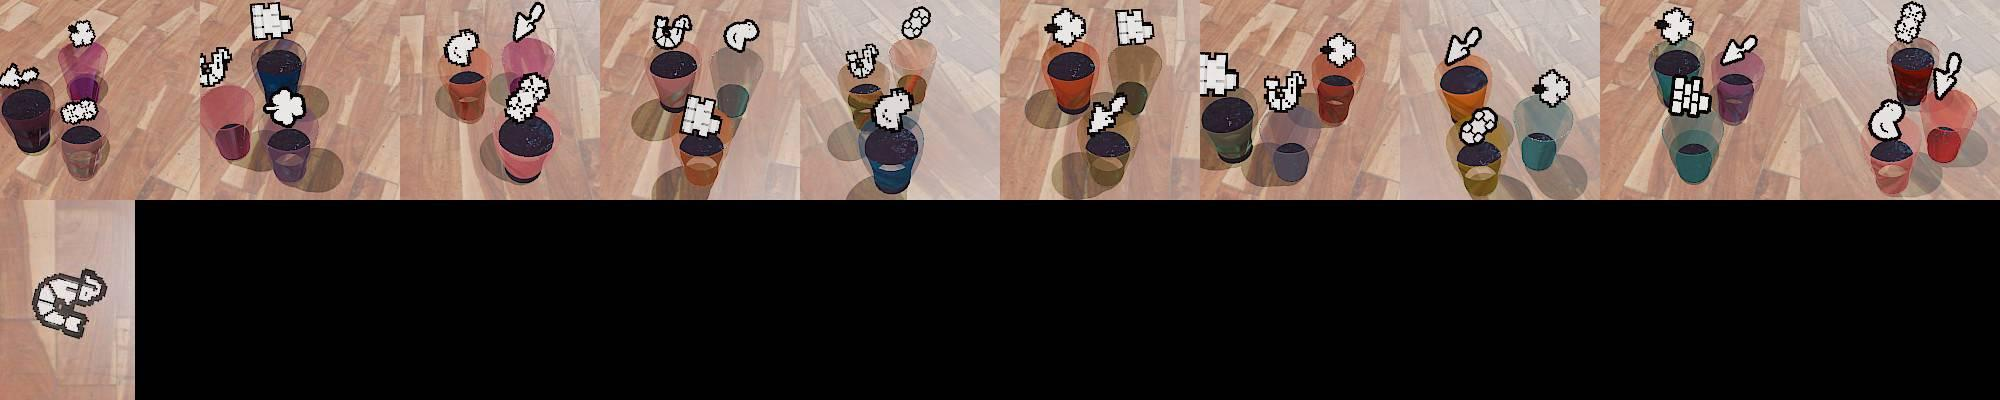icon: (29, 267, 108, 341), (505, 72, 550, 122), (1263, 68, 1307, 113), (1085, 94, 1129, 139), (871, 87, 914, 132), (679, 93, 722, 138), (1670, 73, 1713, 117), (1200, 49, 1238, 97), (1044, 7, 1087, 48), (249, 2, 294, 40), (265, 86, 307, 126), (1868, 98, 1907, 141), (1115, 7, 1156, 47), (1931, 51, 1964, 100), (652, 11, 693, 50), (1532, 68, 1571, 107), (1459, 107, 1498, 146), (1655, 6, 1695, 44), (1444, 26, 1482, 65), (443, 28, 480, 67), (198, 47, 233, 88), (512, 2, 545, 44), (1895, 2, 1927, 43), (723, 18, 760, 53), (1717, 34, 1757, 66), (845, 43, 879, 80), (1321, 33, 1357, 67), (900, 6, 931, 42), (0, 63, 41, 89), (59, 97, 98, 124), (67, 19, 95, 48)
